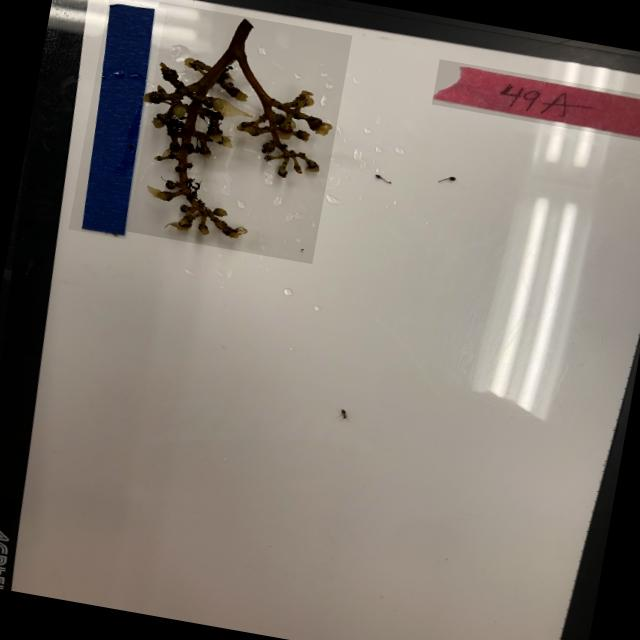index: (431, 58, 640, 145)
measure_label: (68, 0, 166, 239)
rachis_cluster: (119, 1, 352, 264)
